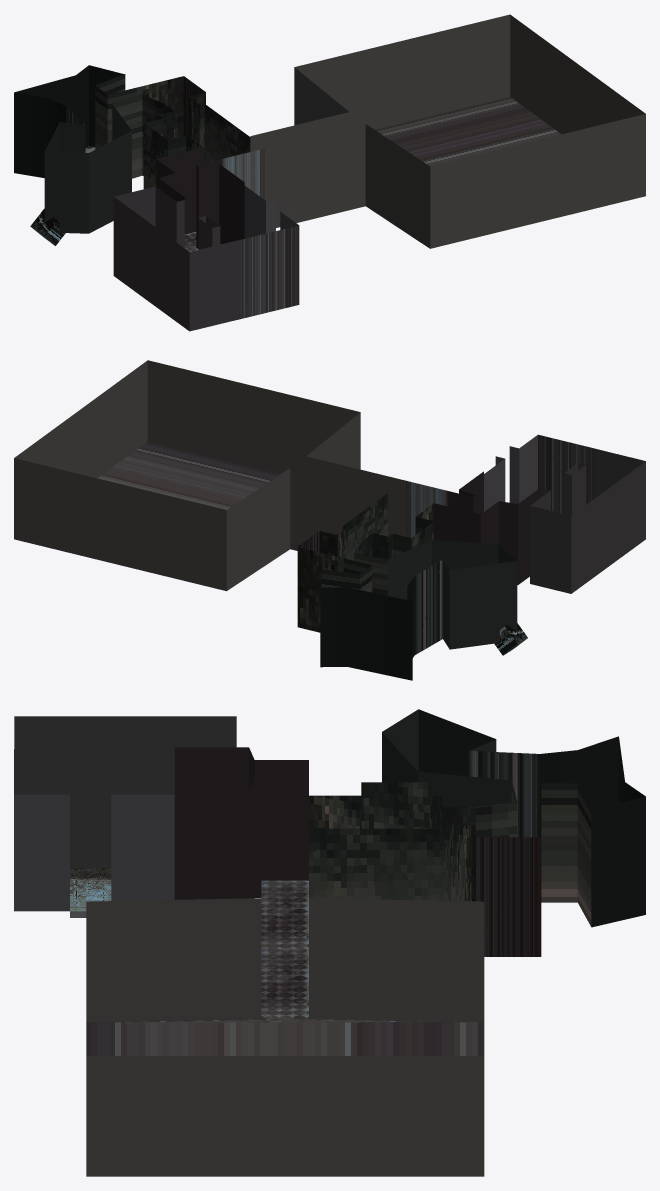
Rendered from prison_loc.glb.
The picture shows the model from 3 angles, top to bottom: view 1: azimuth 30°, elevation 25°; view 2: azimuth 150°, elevation 25°; view 3: azimuth 270°, elevation 25°; orthographic projection. The views are drawn at different scales.
Parts seen in each view (by area): view 1: Cube, Cube.002; view 2: Cube, Cube.002; view 3: Cube.
Part boxes in pixels (x1,y1,x2,y2): Cube: (14,14,645,331); Cube.002: (30,208,65,245); Cube: (14,360,645,680); Cube.002: (494,623,527,655); Cube: (14,709,645,1176).
Bounding box in the file's own units: 25.67 × 4.74 × 19.34.
Materials: 1 (1 with a texture image).
